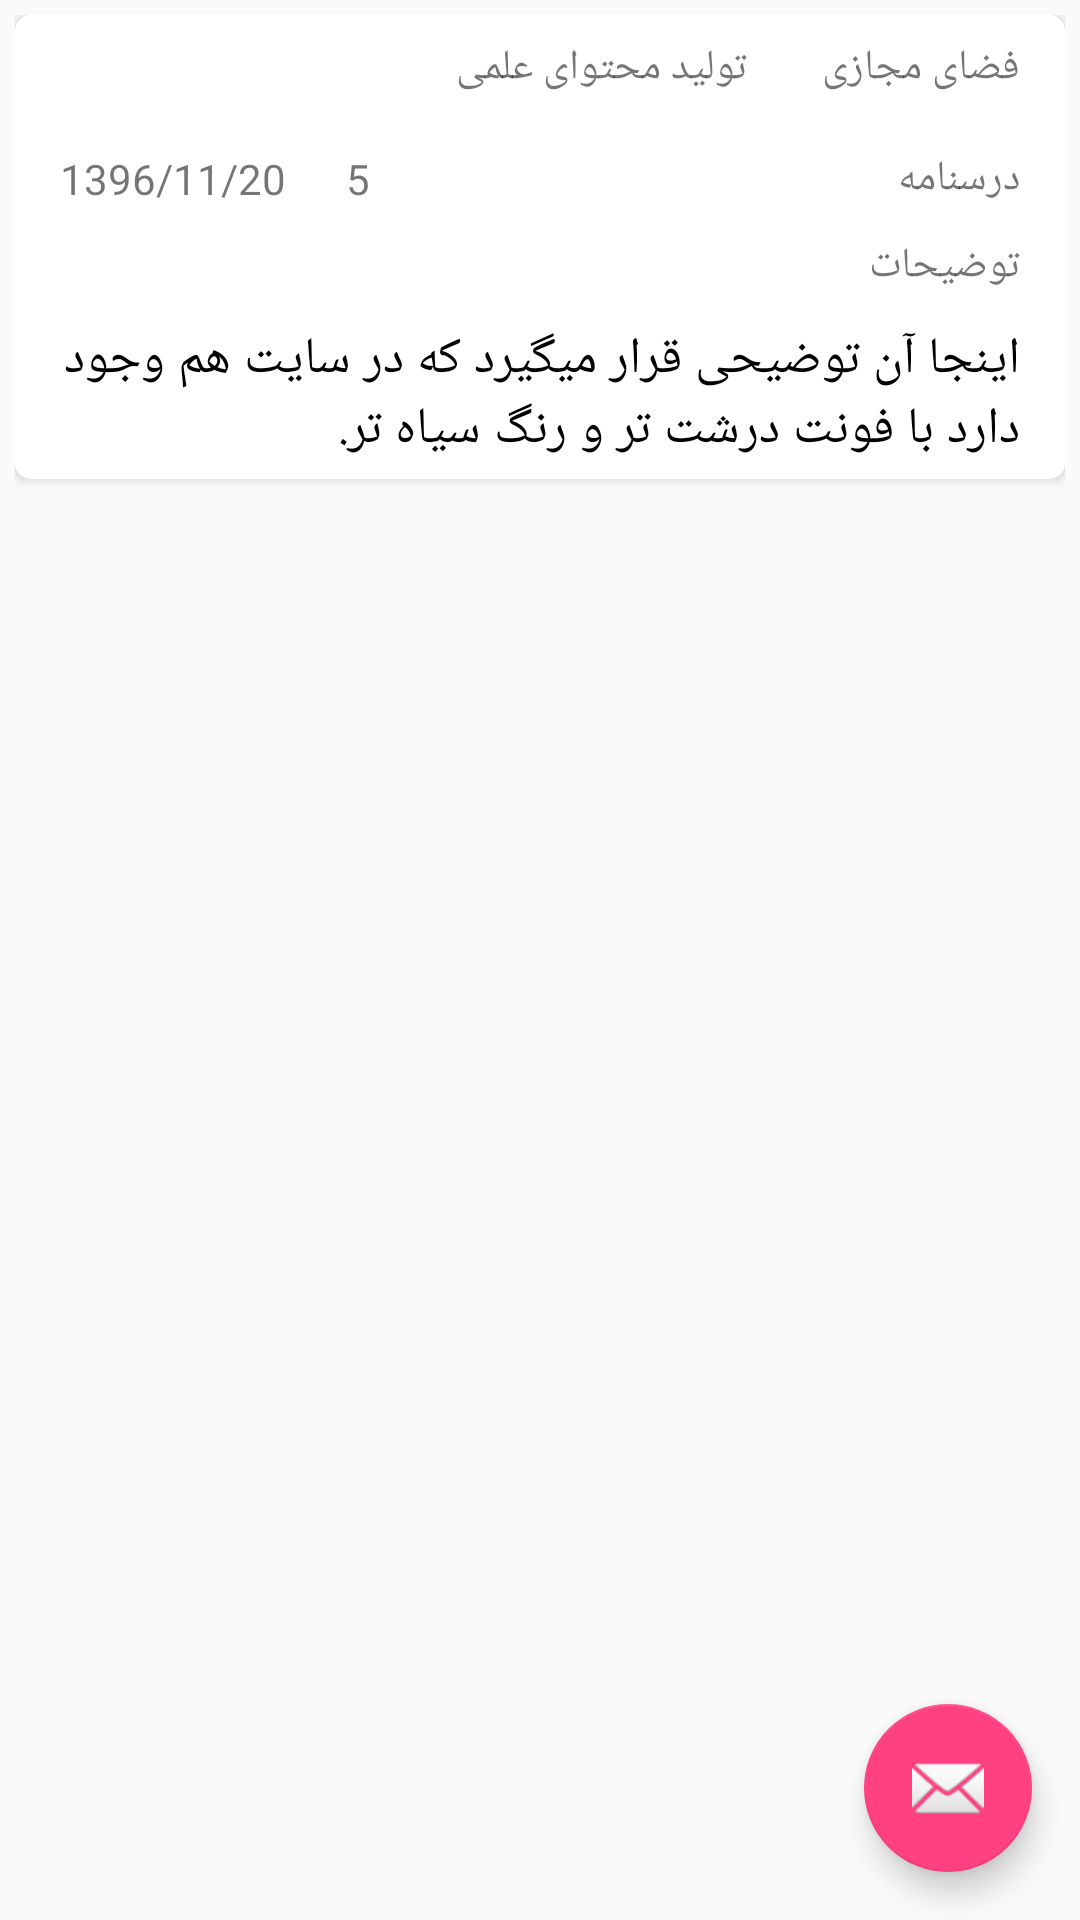

Icon click points for this 1080x1920 phone screenshot, format (x,y):
email: (948,1788)
